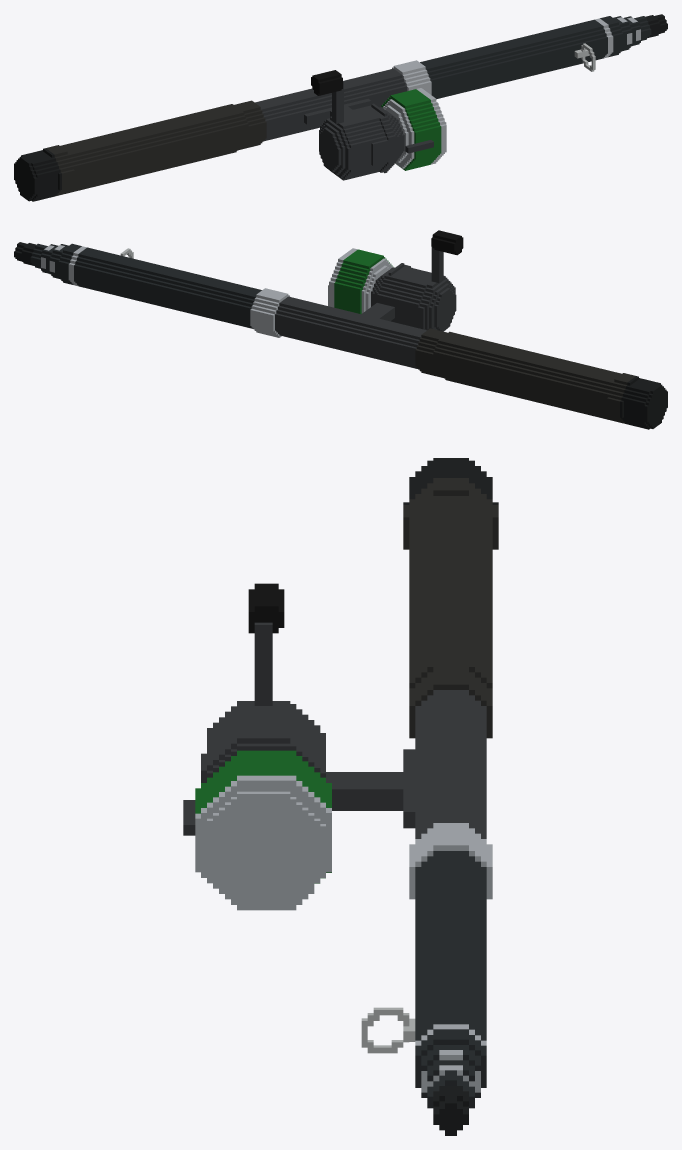
The model's file is fishing_rod_tele_packed.glb.
3 renders of one model, top to bottom at view 1: azimuth 30°, elevation 25°; view 2: azimuth 150°, elevation 25°; view 3: azimuth 270°, elevation 25°, orthographic. The views are drawn at different scales.
Visible parts, largest first — view 1: fishing_rod_tele_packed:compound; view 2: fishing_rod_tele_packed:compound; view 3: fishing_rod_tele_packed:compound.
Part boxes in pixels (box(x1,y1,x2,y2)): fishing_rod_tele_packed:compound: box(14, 14, 667, 201); fishing_rod_tele_packed:compound: box(14, 230, 667, 429); fishing_rod_tele_packed:compound: box(183, 458, 498, 1135).
Bounding box in the file's own units: 0.496 × 0.08 × 0.106.
